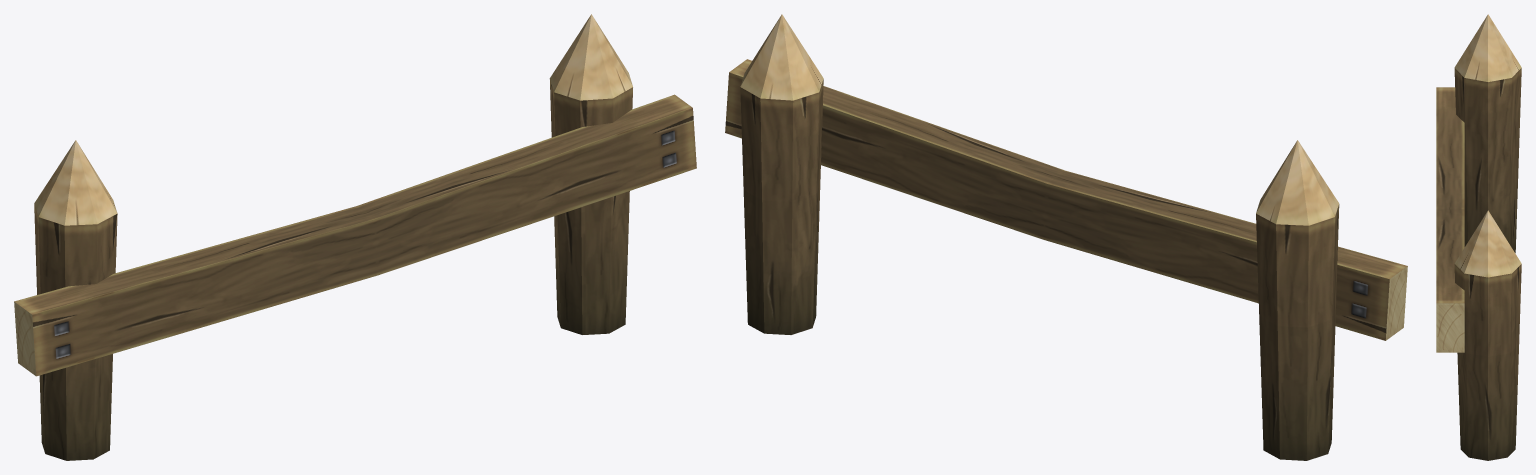
The model's file is wooden_fence_48.fbx.
3 renders of one model, left to right at view 1: azimuth 30°, elevation 25°; view 2: azimuth 150°, elevation 25°; view 3: azimuth 270°, elevation 25°, orthographic. The views are drawn at different scales.
Parts seen in each view (by area): view 1: wooden_fence_48:Mesh; view 2: wooden_fence_48:Mesh; view 3: wooden_fence_48:Mesh.
Boxes of the visible parts, x1,y1,x2,y2 form: wooden_fence_48:Mesh: [14, 14, 696, 460]; wooden_fence_48:Mesh: [725, 14, 1407, 460]; wooden_fence_48:Mesh: [1436, 14, 1521, 460].
Bounding box in the file's own units: 8.2 × 3.62 × 1.17.
